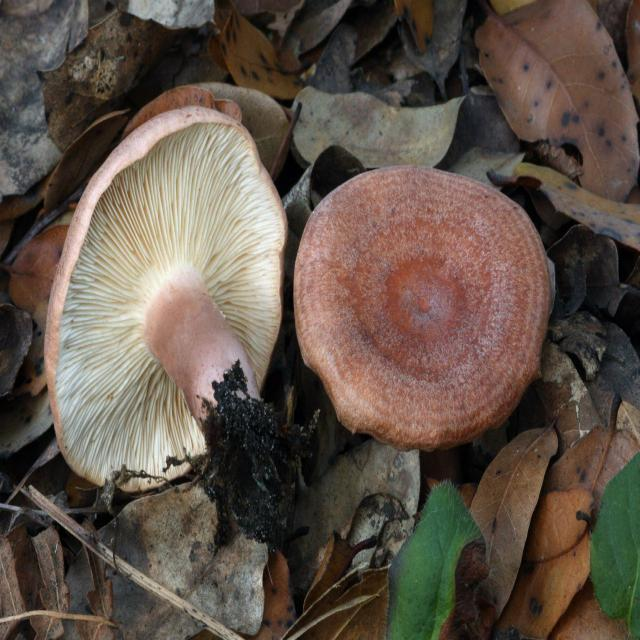Armillaria mellea: (46, 102, 287, 532), (294, 168, 552, 449)
